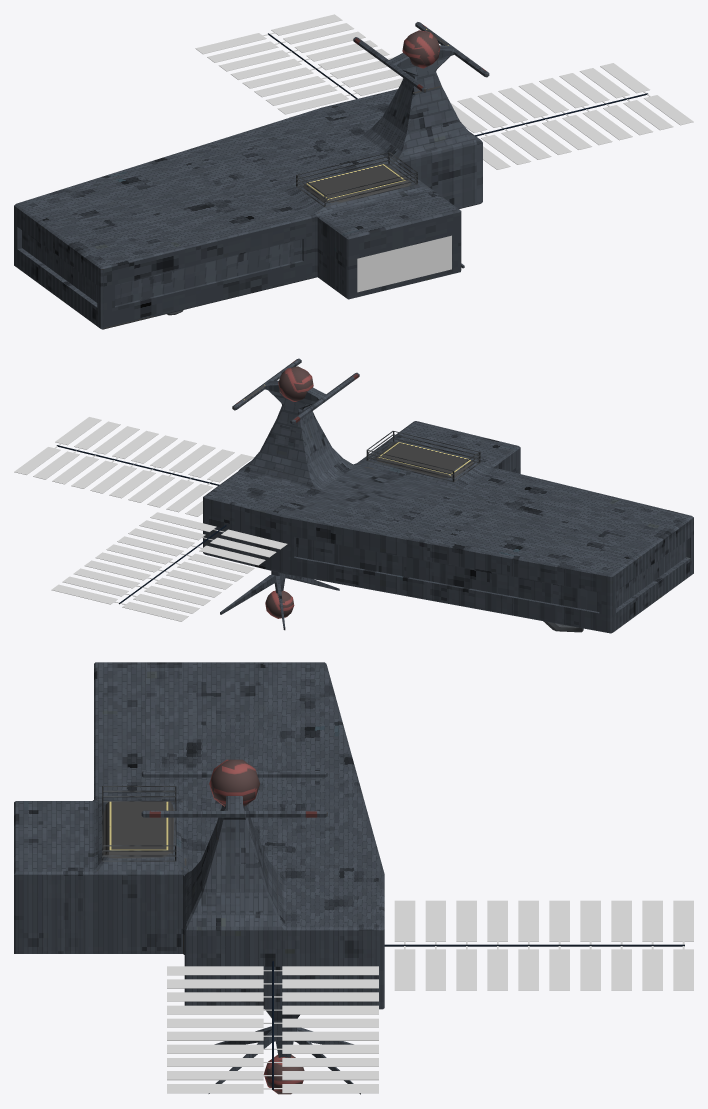
The model's file is Station_2.fbx.
3 renders of one model, top to bottom at view 1: azimuth 30°, elevation 25°; view 2: azimuth 150°, elevation 25°; view 3: azimuth 270°, elevation 25°, orthographic. The views are drawn at different scales.
Parts seen in each view (by area): view 1: Station, Solar Panels, Solar Panels.001, HangarDoor, Deko.001; view 2: Station, Solar Panels.001, Solar Panels, Deko.001; view 3: Station, Solar Panels, Solar Panels.001, Deko.001, Solar Bar.001.
Boxes of the visible parts, x1=… form: Station: x1=14, y1=22, x2=489, y2=329; Solar Panels: x1=450, y1=63, x2=693, y2=169; Solar Panels.001: x1=195, y1=14, x2=448, y2=117; HangarDoor: x1=357, y1=235, x2=451, y2=292; Deko.001: x1=296, y1=152, x2=417, y2=206; Station: x1=203, y1=358, x2=693, y2=633; Solar Panels.001: x1=51, y1=512, x2=287, y2=621; Solar Panels: x1=14, y1=417, x2=253, y2=516; Deko.001: x1=366, y1=431, x2=480, y2=481; Station: x1=14, y1=662, x2=384, y2=1094; Solar Panels: x1=167, y1=966, x2=378, y2=1093; Solar Panels.001: x1=394, y1=900, x2=693, y2=990; Deko.001: x1=102, y1=786, x2=176, y2=861; Solar Bar.001: x1=384, y1=944, x2=684, y2=946.
Bounding box in the file's own units: 19693 × 27343 × 10663.
